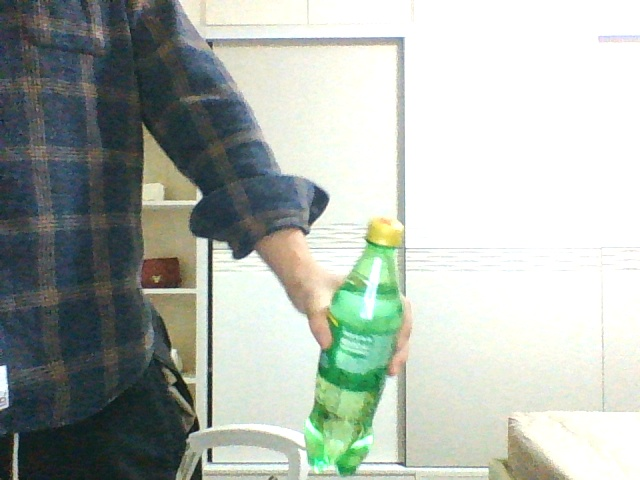Sprite: (304, 219, 403, 474)
